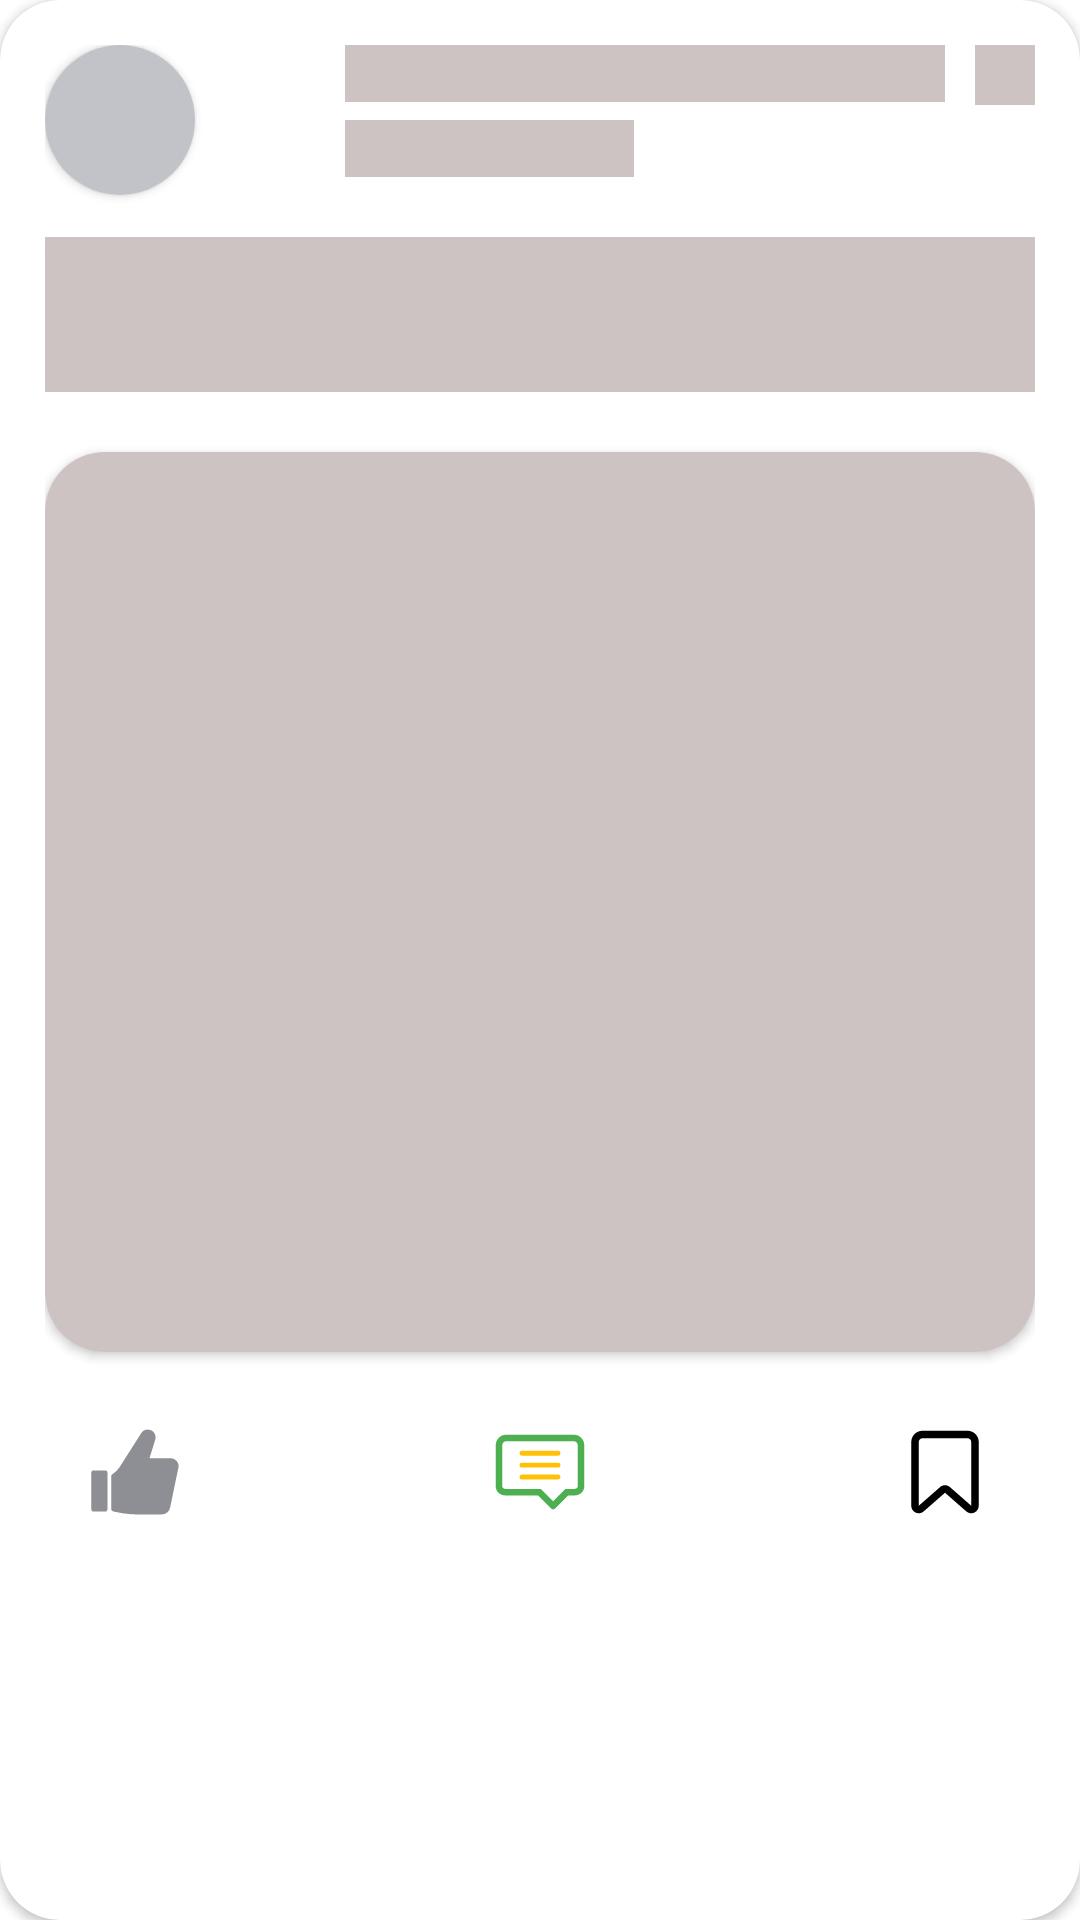

Where icons sit on this 1080x1920 app screen, as (x1, y1, x2, y2):
comments sh: (495, 1434, 585, 1510)
like sh: (91, 1429, 179, 1515)
save sh: (911, 1430, 979, 1514)
